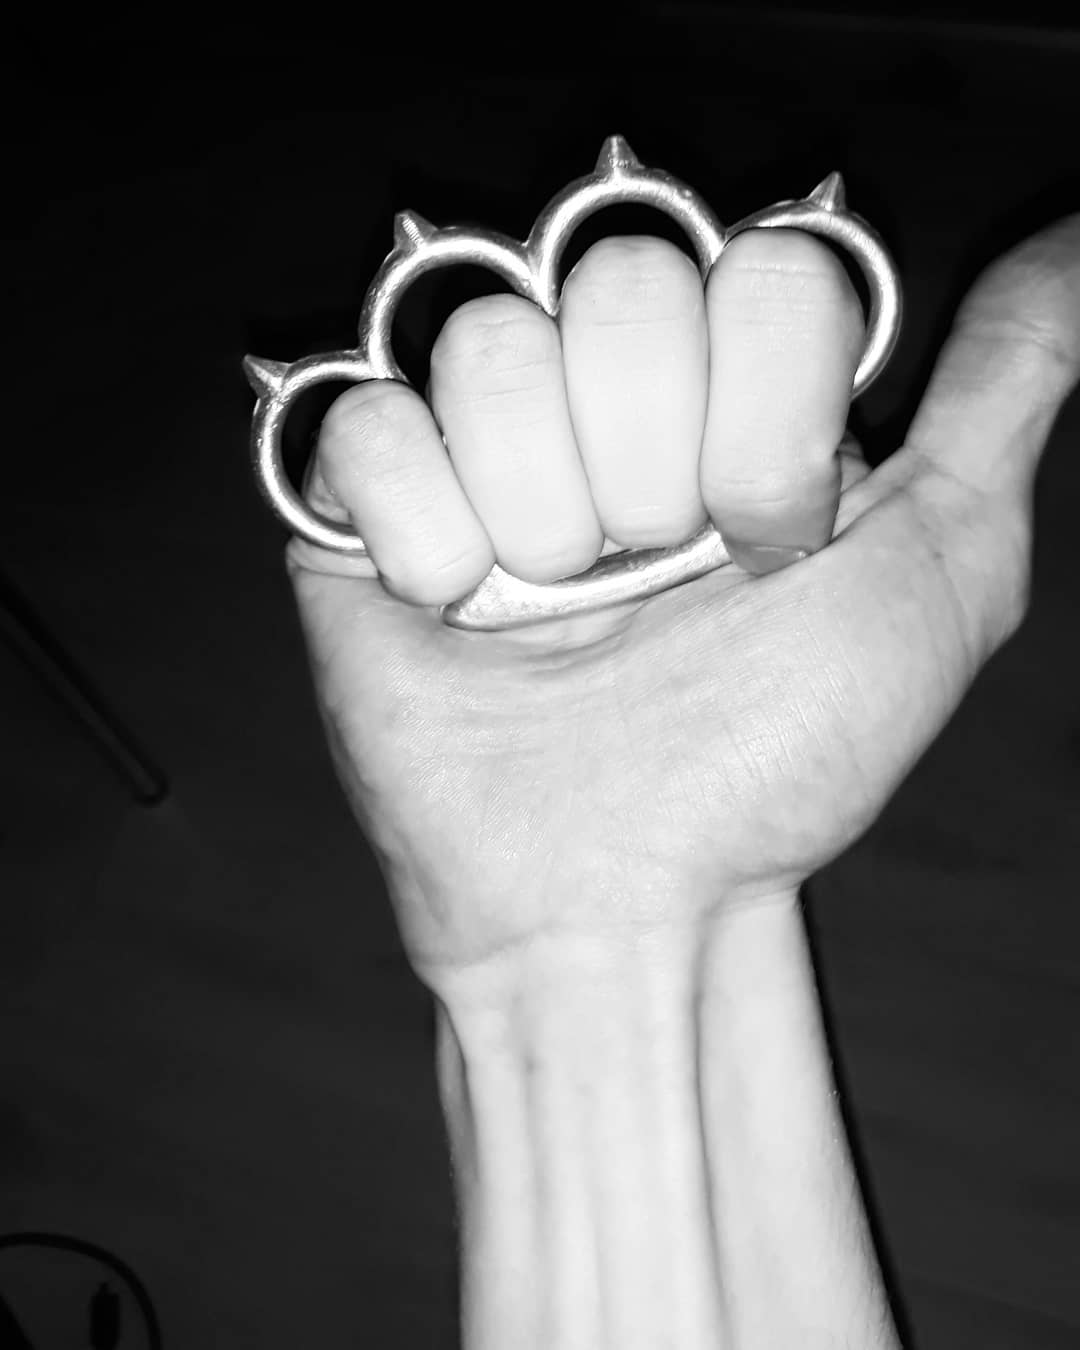hand: (334, 239, 1059, 1013)
